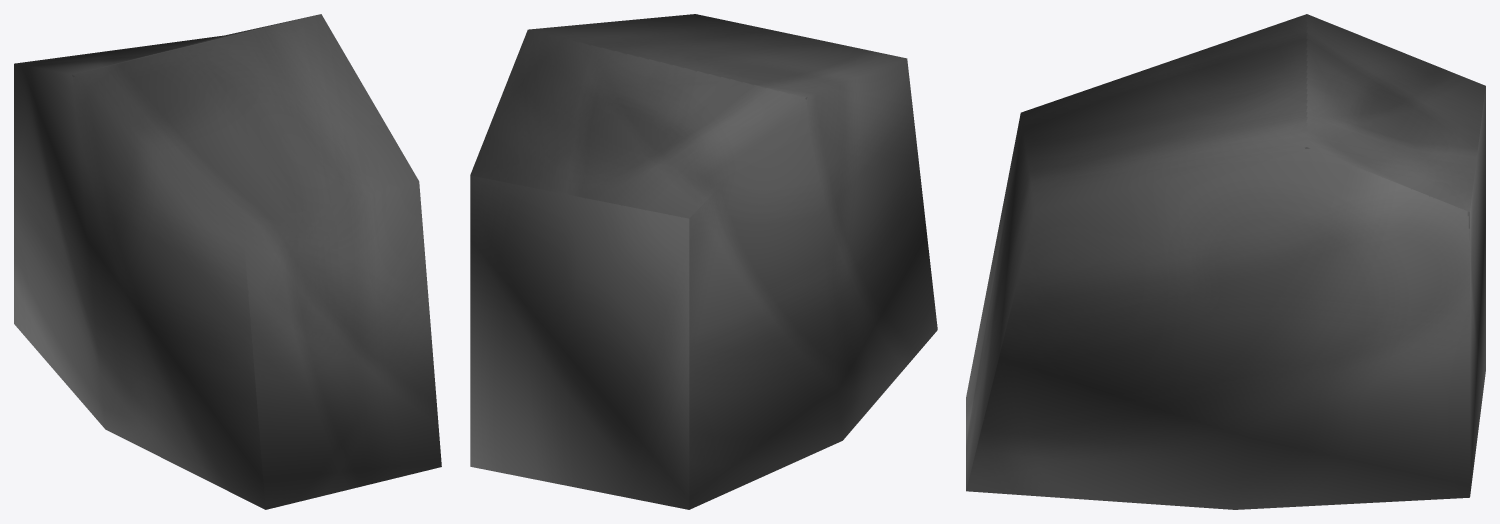
Rendered from Rock.fbx.
3 views of the same model, side by side, from view 1: azimuth 30°, elevation 25°; view 2: azimuth 150°, elevation 25°; view 3: azimuth 270°, elevation 25° (orthographic). The views are drawn at different scales.
Parts seen in each view (by area): view 1: Cube; view 2: Cube; view 3: Cube.
Part boxes in pixels (left/top/right/bottom): Cube: left=14, top=14, right=441, bottom=509; Cube: left=470, top=14, right=937, bottom=509; Cube: left=966, top=14, right=1485, bottom=509.
Bounding box in the file's own units: 200 × 254 × 330.
